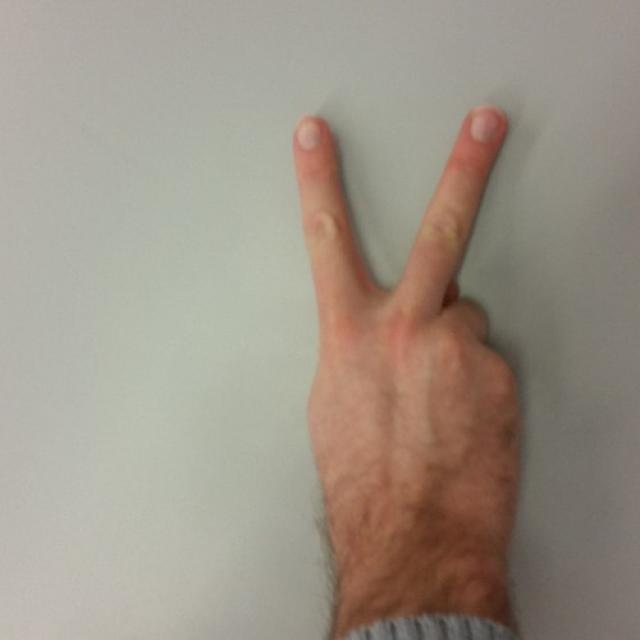scissors: (295, 105, 522, 544)
